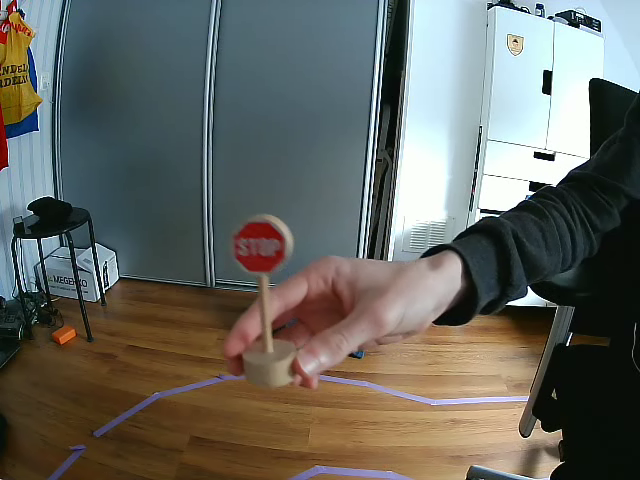stopbord: (233, 218, 287, 274)
